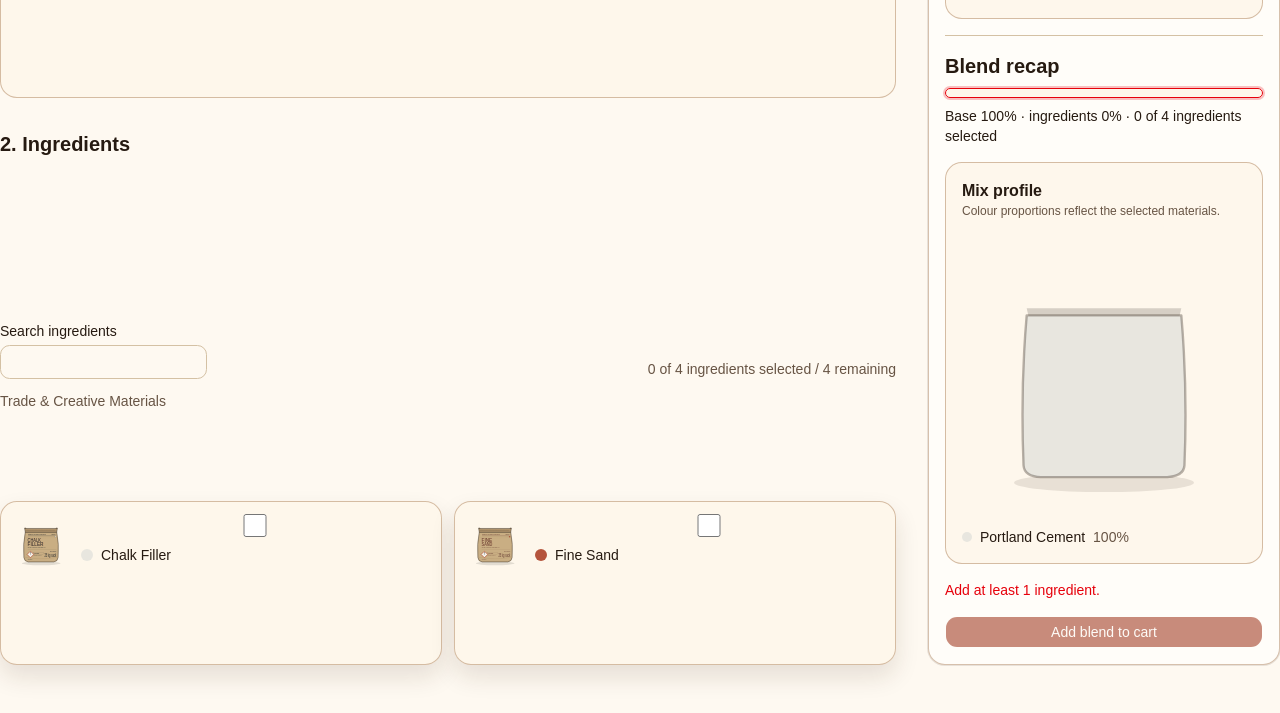
Scenario: CustomBlendPage › renders a coded pigment-cap verdict and keeps submit disabled
(page scrolled)
Step 1. Click the checkbox labelled "CHALK FILLER" → click(255, 525), box [81,514,429,537]
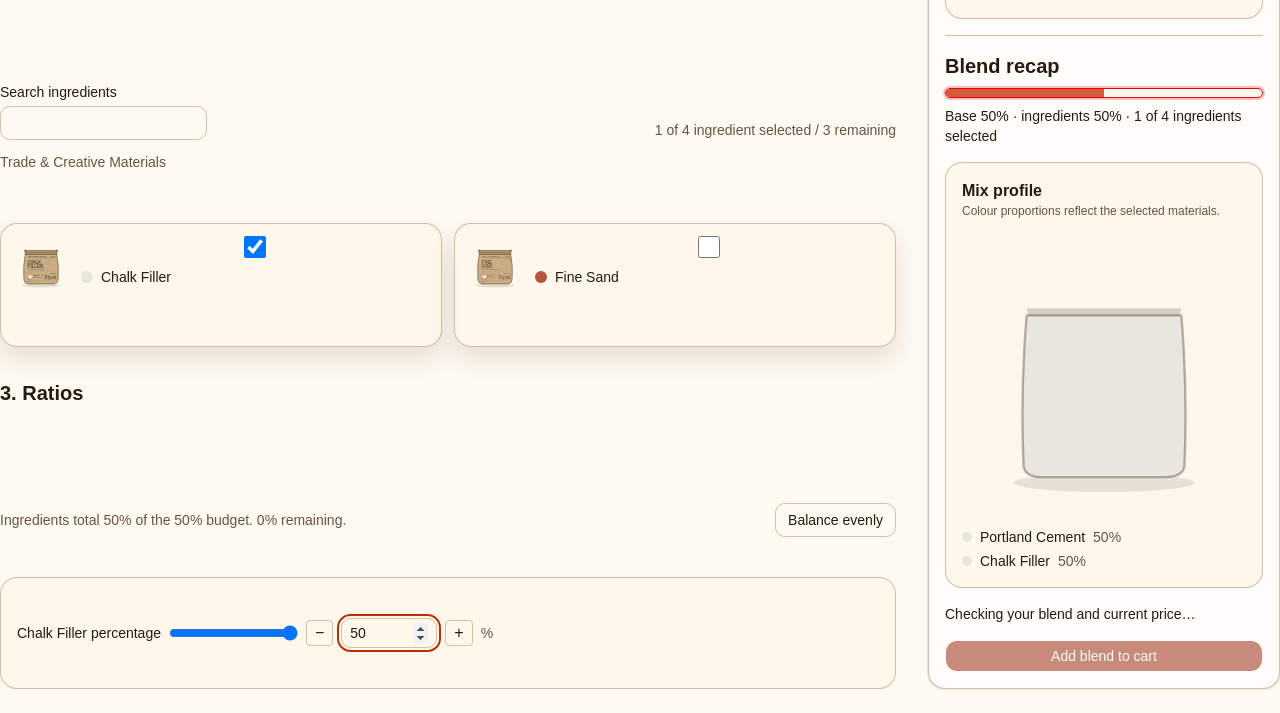
Step 2. Replace the text in the number field labelled "Chalk Filler percentage" with "20" → (389, 633), box [341,618,437,648]
(page scrolled)
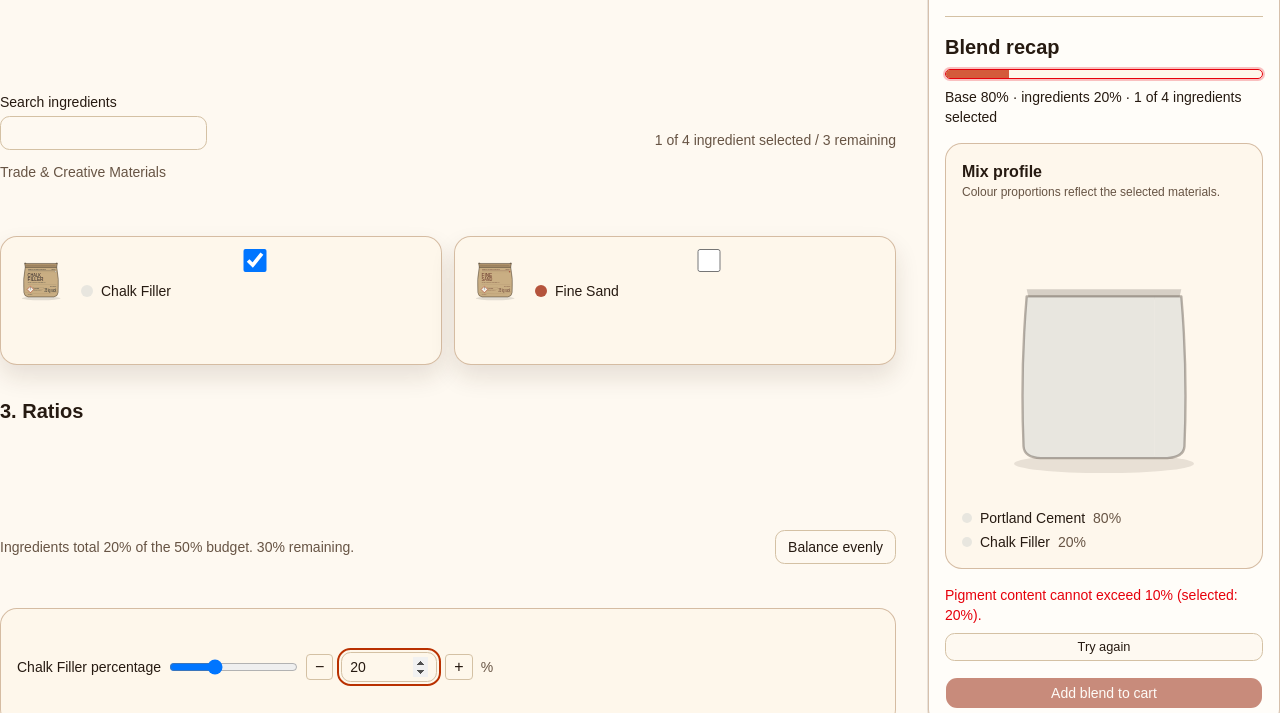
Expected: the message does not show "private backend detail", [945,585,1263,661]
Result: the message shows "Pigment content cannot exceed 10% (selected: 20%)." at [945,587,1238,623]
